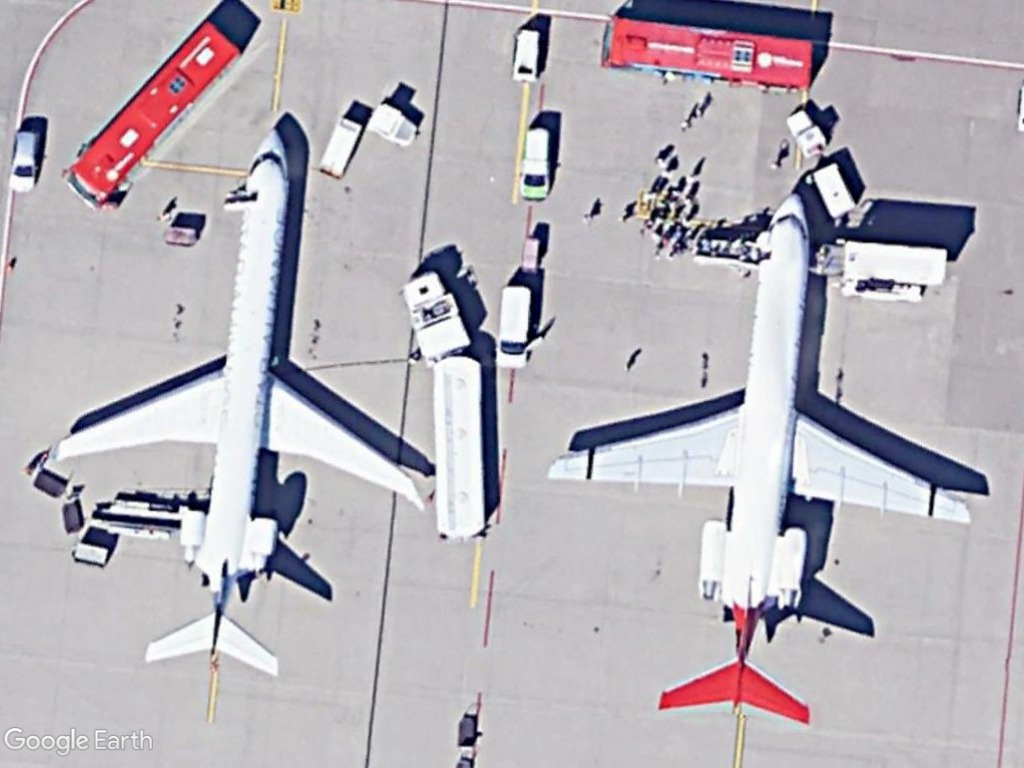bus: (61, 21, 250, 213), (596, 15, 815, 98)
car: (6, 124, 41, 198)
chartered: (540, 183, 978, 732), (45, 119, 431, 688)
longvehicle: (432, 354, 488, 543)
truck: (811, 232, 952, 291)
van: (492, 280, 534, 373), (515, 124, 554, 203)
